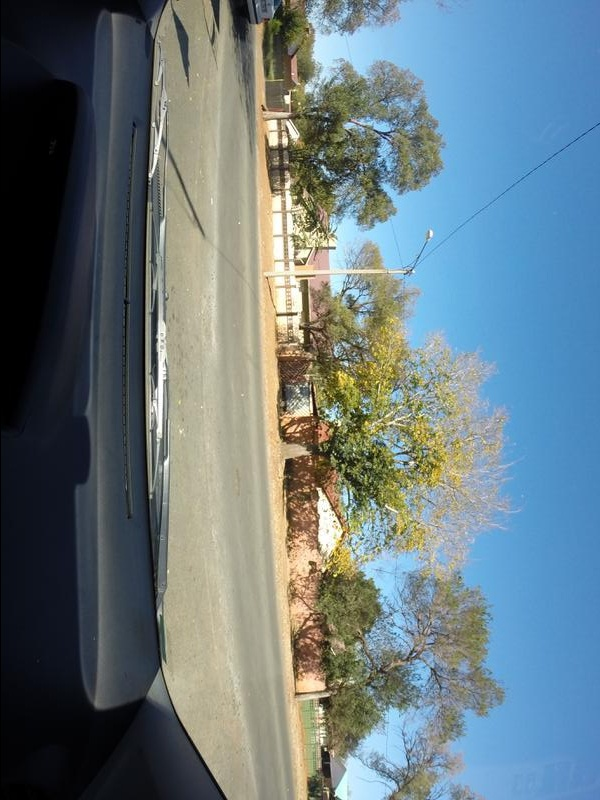pothole: (231, 470, 241, 497)
